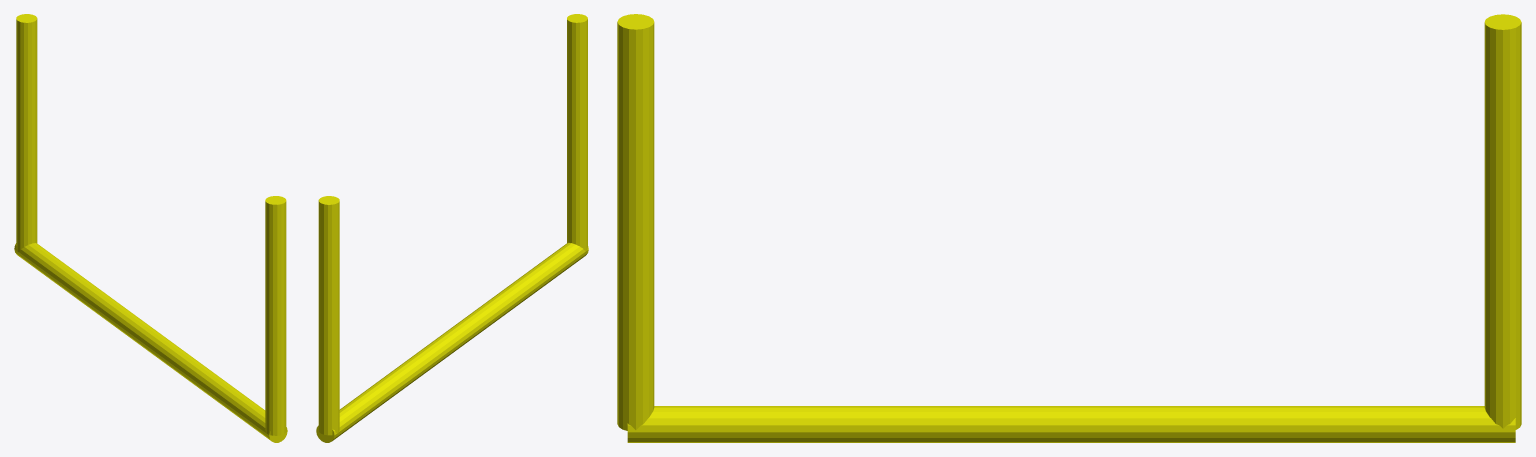
Rendered from start_gate.dae.
3 renders of one model, left to right at view 1: azimuth 30°, elevation 25°; view 2: azimuth 150°, elevation 25°; view 3: azimuth 270°, elevation 25°, orthographic. The views are drawn at different scales.
Visible parts, largest first — view 1: Toob; view 2: Toob; view 3: Toob.
Boxes of the visible parts, bbox=[...] form: Toob: bbox=[14, 14, 287, 442]; Toob: bbox=[316, 14, 588, 442]; Toob: bbox=[617, 14, 1521, 442].
Bounding box in the file's own units: 0.1018 × 2.44 × 1.25.
